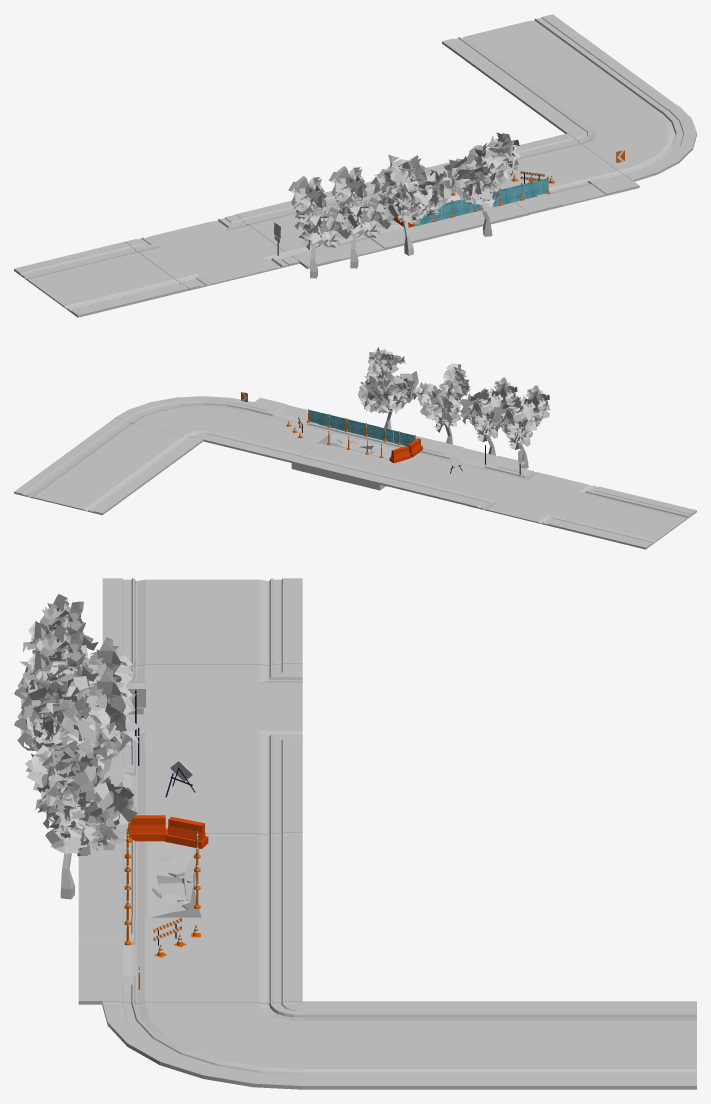
File: Carretera.fbx
3 views of the same model, one above another, from view 1: azimuth 30°, elevation 25°; view 2: azimuth 150°, elevation 25°; view 3: azimuth 270°, elevation 25° (orthographic). The views are drawn at different scales.
Parts seen in each view (by area): view 1: Road-2-Lane-Straight.001, Road-2-Lane-X, Road-2-Lane-Straight.007, Road-2-Lane-Straight.006, Road-2-Lane-Driveway, Road-2-Lane-Corner, Road-2-Lane-Driveway.001, Road-2-Lane-Straight; view 2: Road-2-Lane-Driveway.001, Road-2-Lane-Straight.001, Road-2-Lane-Driveway, Road-2-Lane-Straight.007, Road-2-Lane-X, Road-2-Lane-Straight.006, Road-2-Lane-Straight, Road-2-Lane-Corner; view 3: Road-2-Lane-Driveway, Road-2-Lane-Straight.006, Road-2-Lane-Straight.007, Road-2-Lane-Straight, Road-2-Lane-Straight.001, Road-2-Lane-X, Road-2-Lane-Driveway.001, Road-2-Lane-Corner, Cube.010, Cube.009, Cube.002|Tree Branch|Dupli|92.
Part boxes in pixels (bbox=[...]): Road-2-Lane-Straight.001: bbox=[14, 241, 188, 317]; Road-2-Lane-X: bbox=[125, 214, 299, 290]; Road-2-Lane-Straight.007: bbox=[442, 14, 615, 89]; Road-2-Lane-Straight.006: bbox=[506, 60, 678, 133]; Road-2-Lane-Driveway: bbox=[462, 133, 639, 214]; Road-2-Lane-Corner: bbox=[569, 106, 696, 181]; Road-2-Lane-Driveway.001: bbox=[236, 191, 418, 268]; Road-2-Lane-Straight: bbox=[364, 162, 528, 242]; Road-2-Lane-Driveway.001: bbox=[380, 441, 525, 505]; Road-2-Lane-Straight.001: bbox=[557, 489, 696, 549]; Road-2-Lane-Driveway: bbox=[203, 397, 348, 462]; Road-2-Lane-Straight.007: bbox=[14, 455, 153, 515]; Road-2-Lane-X: bbox=[468, 467, 607, 527]; Road-2-Lane-Straight.006: bbox=[65, 418, 203, 477]; Road-2-Lane-Straight: bbox=[291, 419, 436, 490]; Road-2-Lane-Corner: bbox=[114, 396, 253, 439]; Road-2-Lane-Driveway: bbox=[78, 916, 302, 1004]; Road-2-Lane-Straight.006: bbox=[300, 1001, 499, 1089]; Road-2-Lane-Straight.007: bbox=[496, 1001, 696, 1089]; Road-2-Lane-Straight: bbox=[78, 832, 302, 918]; Road-2-Lane-Straight.001: bbox=[102, 578, 302, 665]; Road-2-Lane-X: bbox=[123, 663, 302, 749]; Road-2-Lane-Driveway.001: bbox=[94, 747, 302, 834]; Road-2-Lane-Corner: bbox=[102, 1001, 302, 1089]; Cube.010: bbox=[165, 816, 208, 848]; Cube.009: bbox=[126, 815, 167, 841]; Cube.002|Tree Branch|Dupli|92: bbox=[52, 714, 96, 745].
Size of the model in its own units: 16293 by 2433 by 9258.
